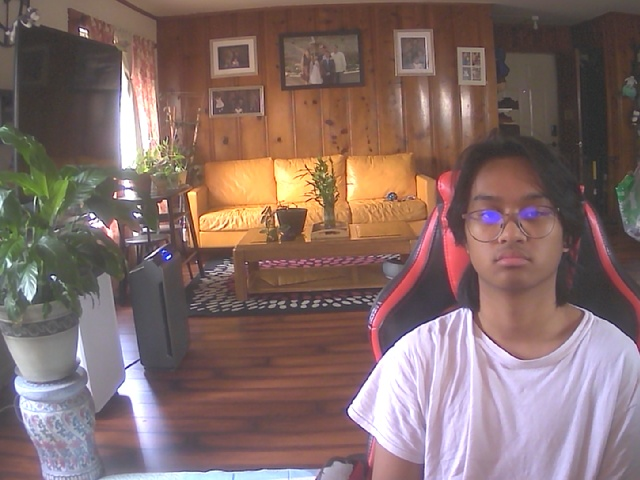neutral: (462, 146, 573, 294)
